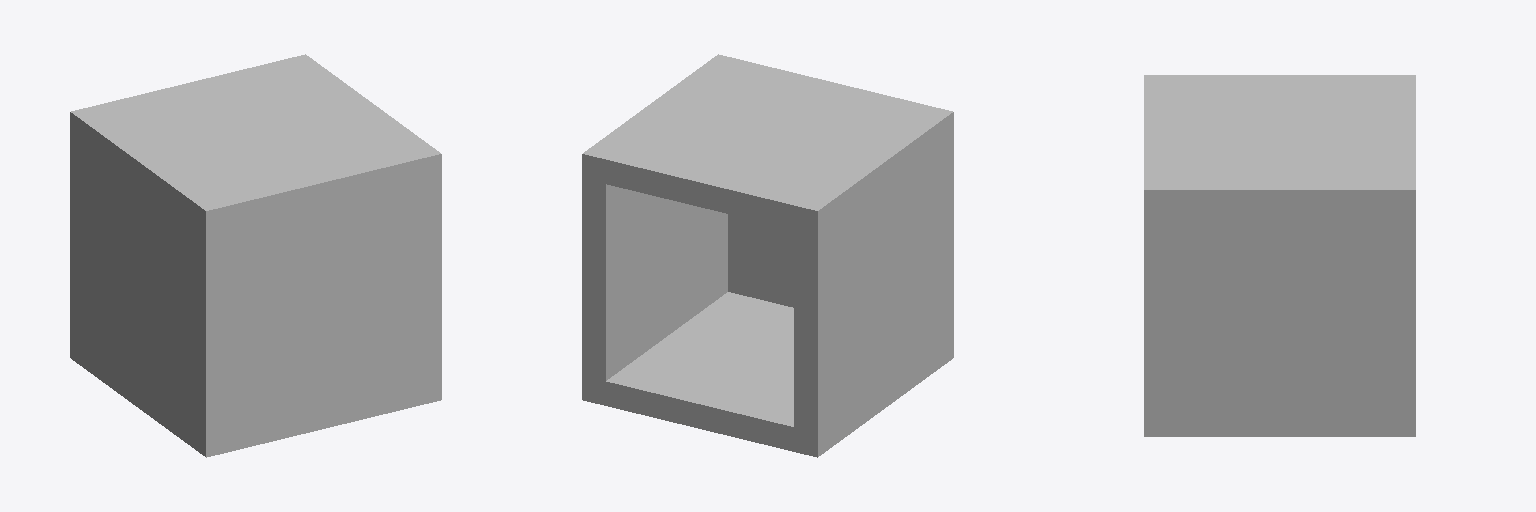
File: pcity_nodes_shelf_1.obj
3 views of the same model, side by side, from view 1: azimuth 30°, elevation 25°; view 2: azimuth 150°, elevation 25°; view 3: azimuth 270°, elevation 25° (orthographic).
Parts seen in each view (by area): view 1: Shelf; view 2: Shelf; view 3: Shelf.
Part boxes in pixels (left/top/right/bottom): Shelf: left=70, top=54, right=441, bottom=457; Shelf: left=582, top=54, right=953, bottom=457; Shelf: left=1144, top=75, right=1415, bottom=436.
Bounding box in the file's own units: 1 × 1 × 1.